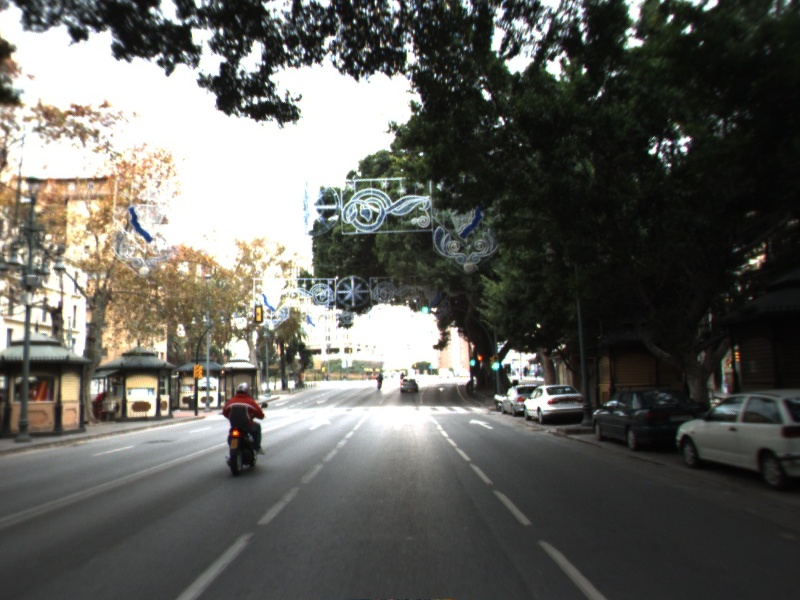STRAIGHT: (466, 417, 496, 431)
